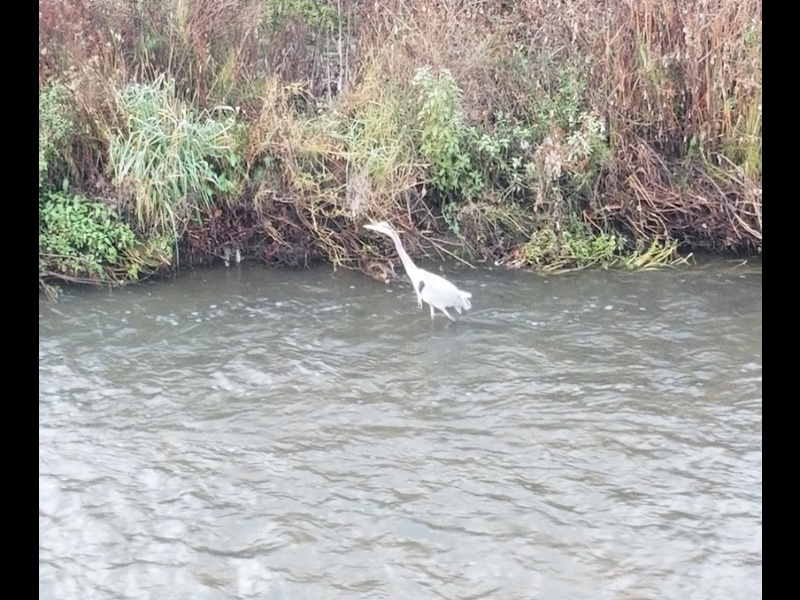heron: (363, 220, 472, 318)
